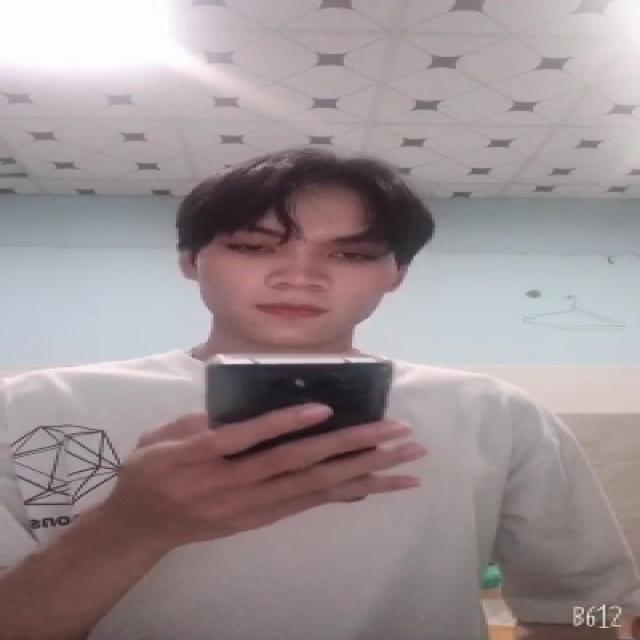Phone: (204, 352, 400, 469)
